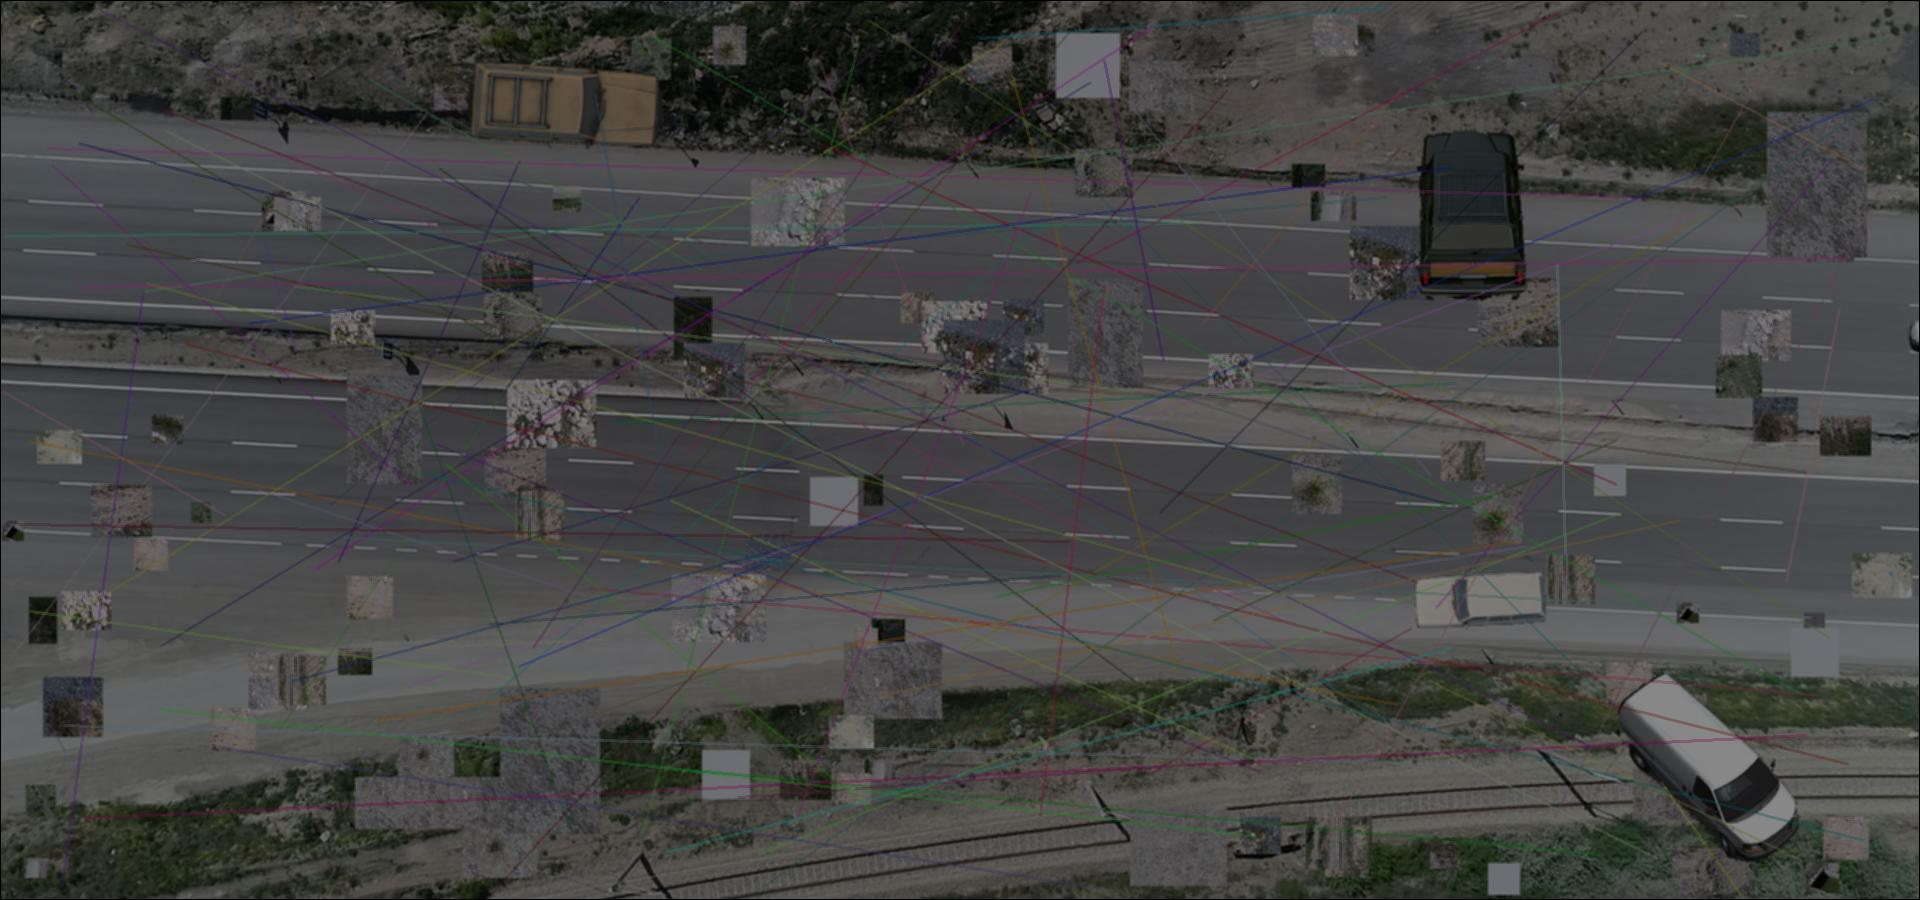arac: (1616, 667, 1801, 862), (1408, 131, 1531, 300), (467, 58, 671, 156), (1412, 569, 1549, 629)
